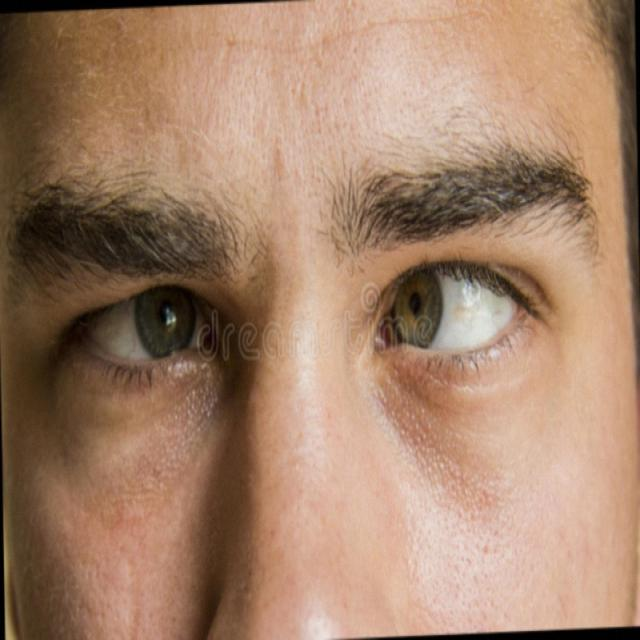Healthy-Eye: (57, 248, 233, 402)
Squint: (353, 245, 548, 389)
